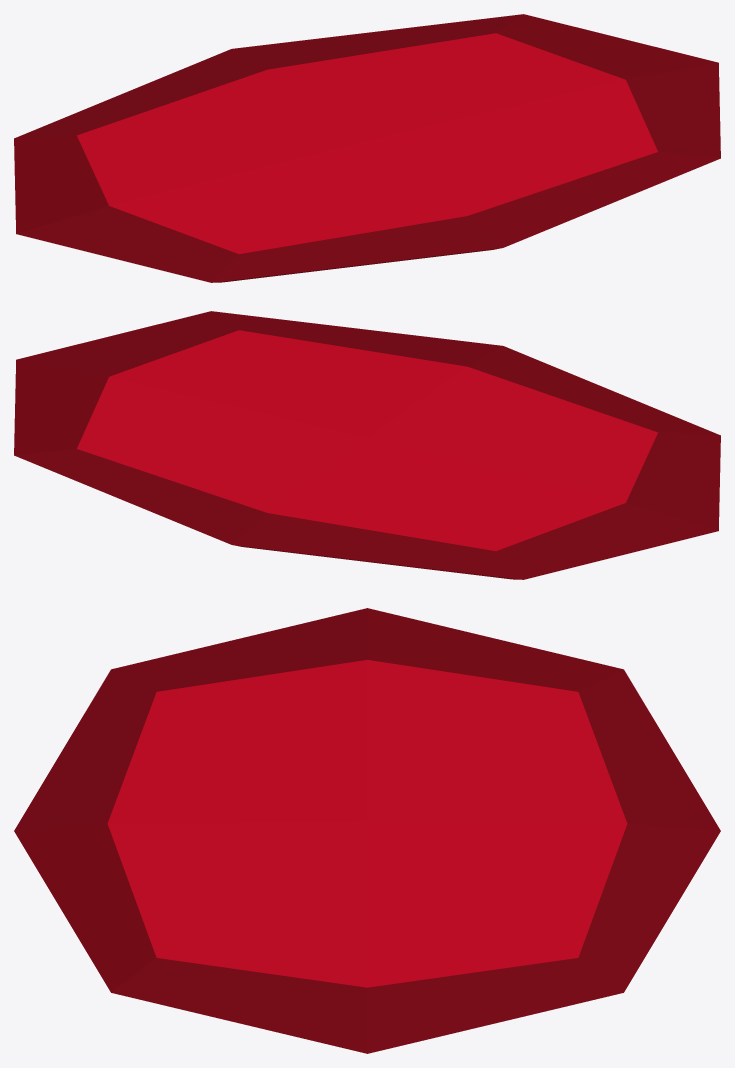
File: large_platform.obj
3 views of the same model, one above another, from view 1: azimuth 30°, elevation 25°; view 2: azimuth 150°, elevation 25°; view 3: azimuth 270°, elevation 25° (orthographic). The views are drawn at different scales.
Parts seen in each view (by area): view 1: Cube; view 2: Cube; view 3: Cube.
Boxes of the visible parts, x1,y1,x2,y2 form: Cube: [14, 14, 720, 282]; Cube: [14, 311, 720, 579]; Cube: [14, 608, 720, 1053].
Size of the model in its own units: 4.31 by 0.543 by 2.89.
